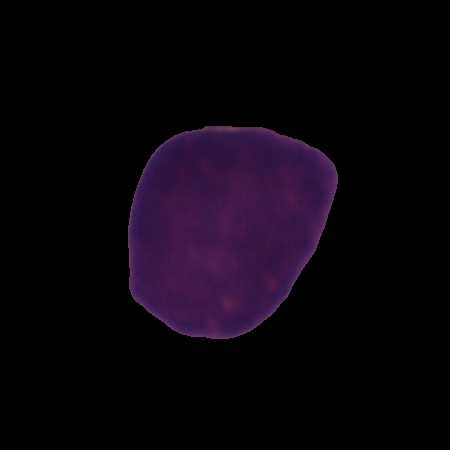HEM: (124, 122, 342, 342)
